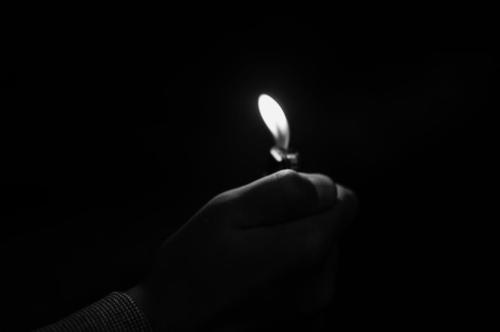fire: (256, 90, 292, 153)
